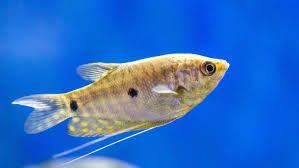Gourami: (14, 53, 230, 168)
